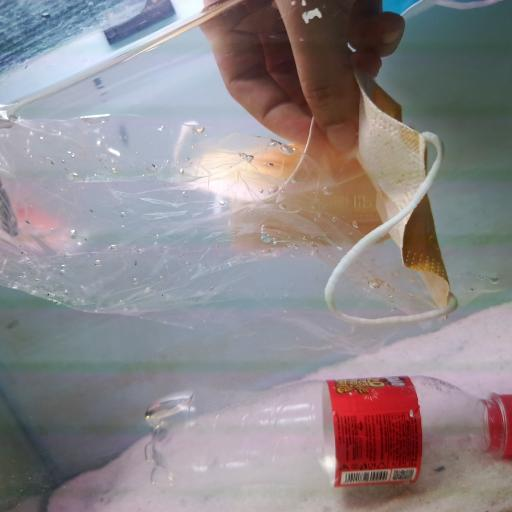bottle_cap: (492, 398, 512, 449)
mask: (182, 116, 460, 325)
plastic_bag: (0, 104, 458, 362)
plastic_bottle: (146, 376, 512, 490)
